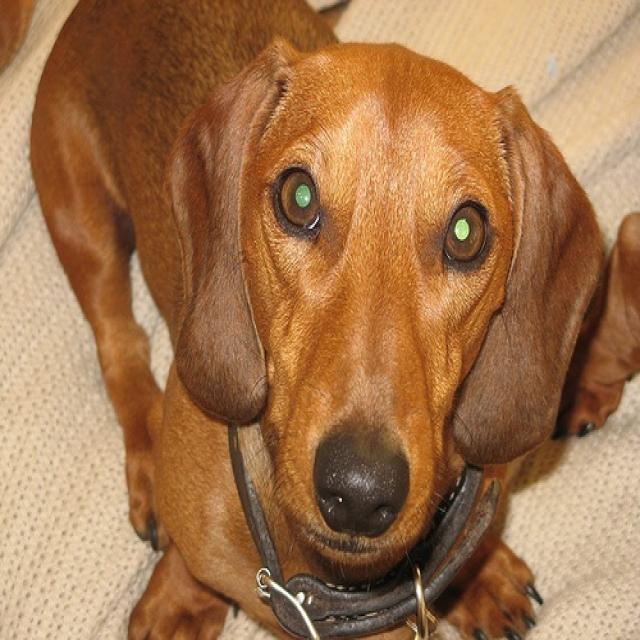dog: (26, 0, 638, 637)
